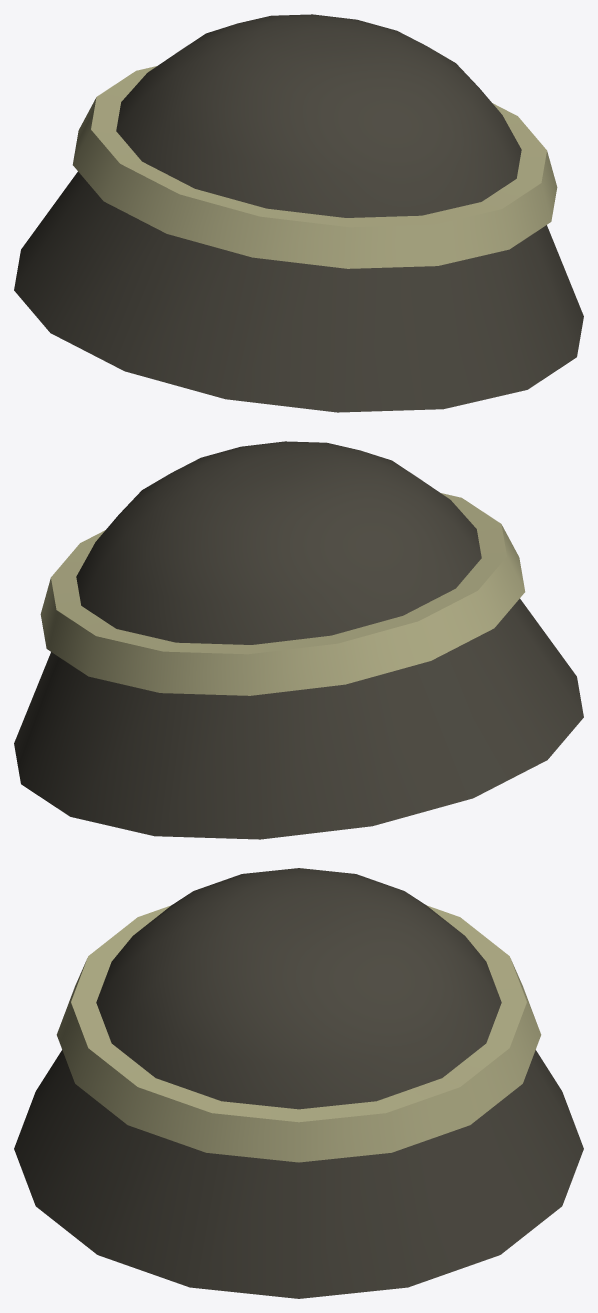
The model's file is Helmet01.fbx.
The picture shows the model from 3 angles, top to bottom: view 1: azimuth 30°, elevation 25°; view 2: azimuth 150°, elevation 25°; view 3: azimuth 270°, elevation 25°; orthographic projection.
Visible parts, largest first — view 1: Helmet01; view 2: Helmet01; view 3: Helmet01.
Boxes of the visible parts, box(x1,y1,x2,y2) form: Helmet01: box(14, 14, 583, 412); Helmet01: box(14, 441, 583, 839); Helmet01: box(14, 868, 583, 1298).
Size of the model in its own units: 1.07 by 1.07 by 0.5948.
